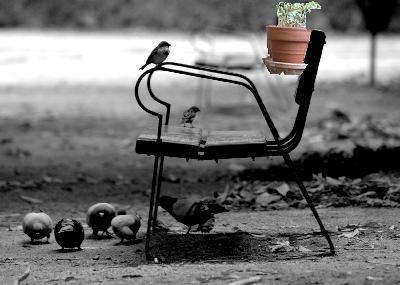tampered: (263, 2, 321, 75)
